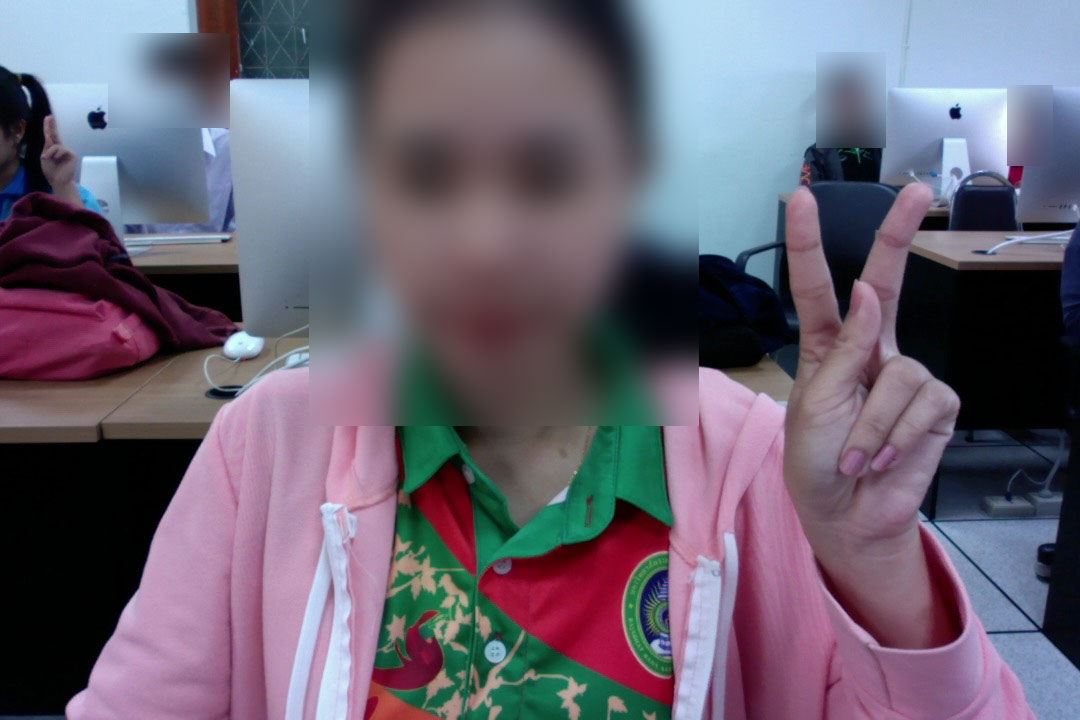ko: (767, 174, 963, 557)
